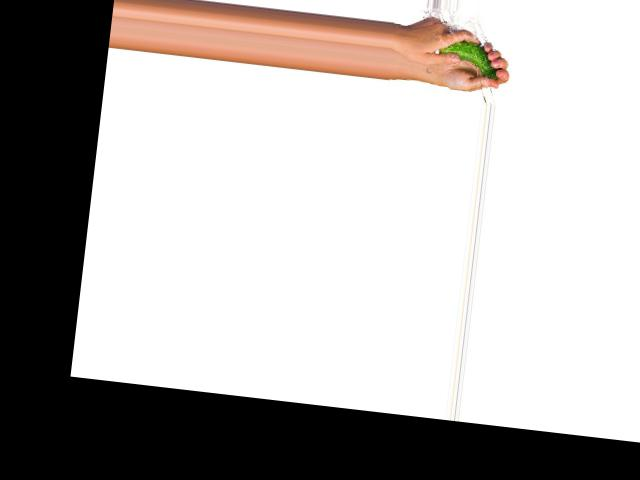cucumber: (435, 36, 501, 79)
